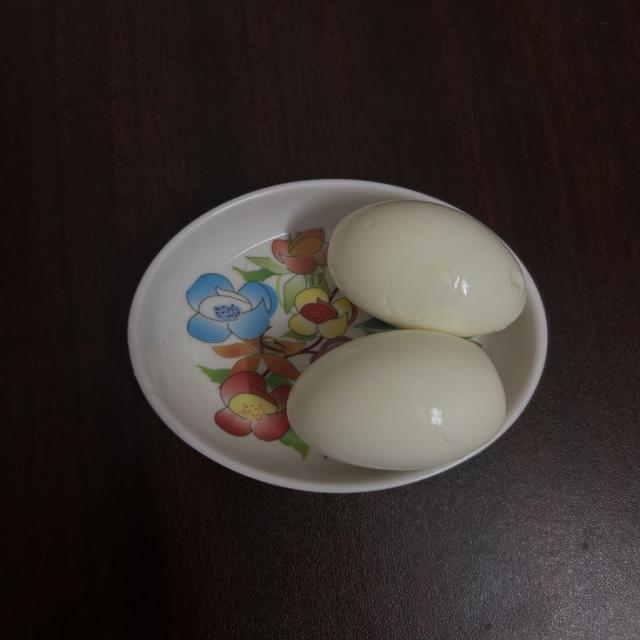egg boiled: (287, 331, 505, 469), (328, 201, 525, 336)
